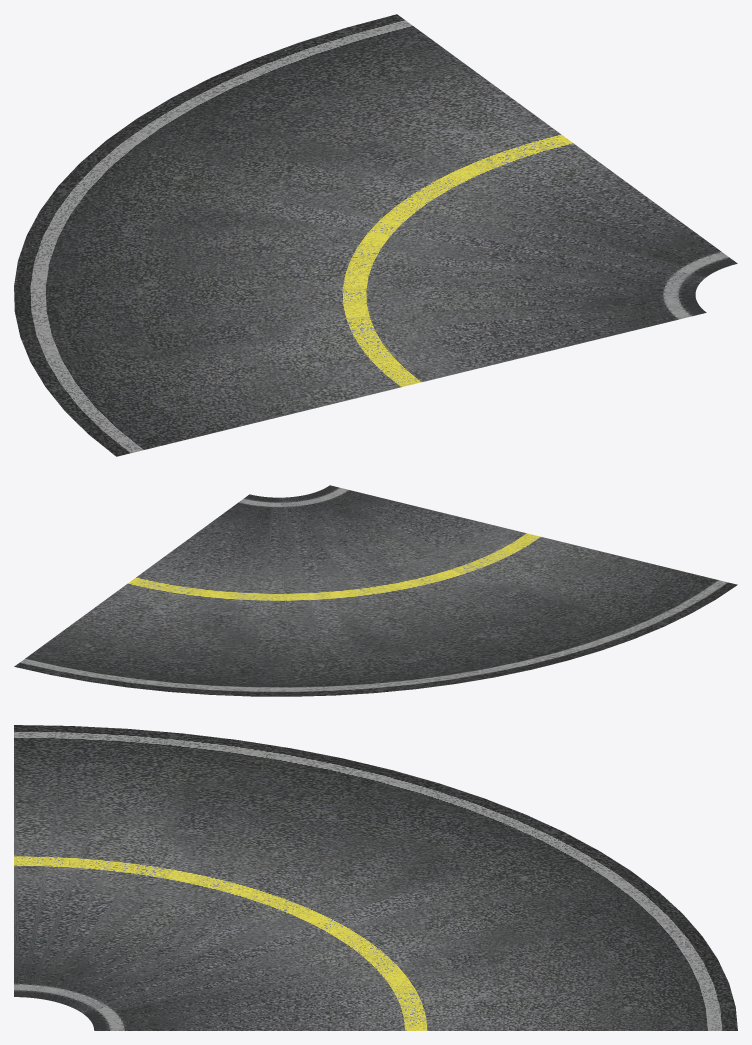
The model's file is Mesh_CornerRoad 1.FBX.
3 renders of one model, top to bottom at view 1: azimuth 30°, elevation 25°; view 2: azimuth 150°, elevation 25°; view 3: azimuth 270°, elevation 25°, orthographic. The views are drawn at different scales.
Parts seen in each view (by area): view 1: Plane002; view 2: Plane002; view 3: Plane002.
Part boxes in pixels (x1,y1,x2,y2): Plane002: [14, 14, 737, 456]; Plane002: [14, 485, 737, 696]; Plane002: [14, 725, 737, 1030].
Bounding box in the file's own units: 89.97 × 4.37e-06 × 89.97.
